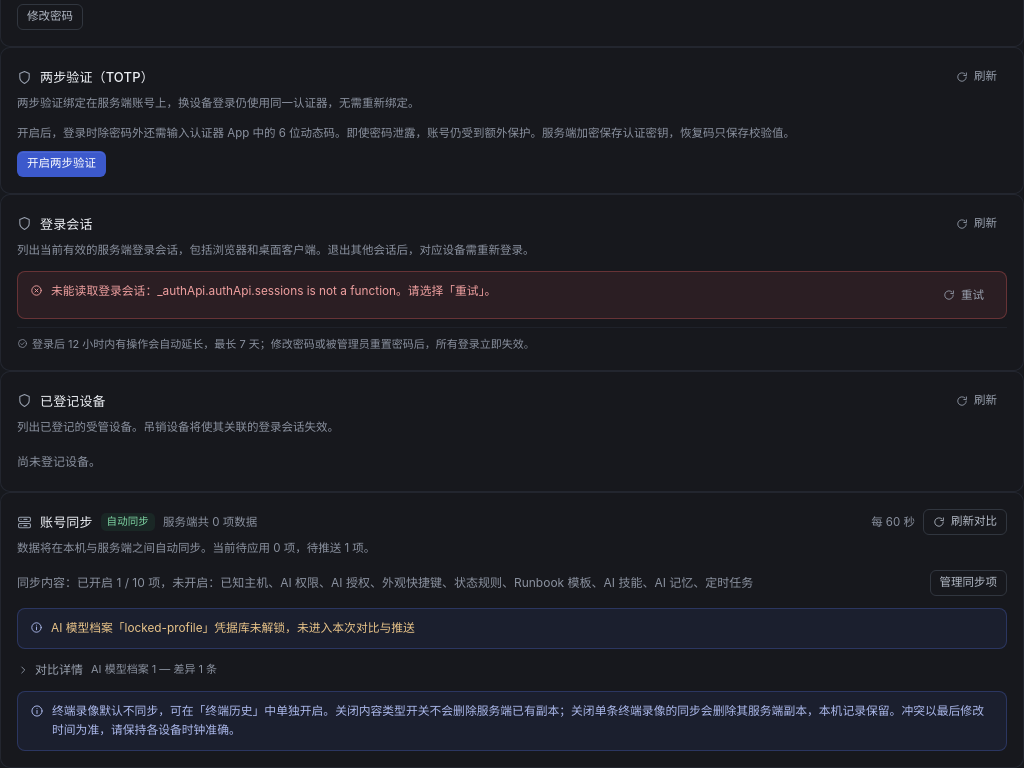
Scenario: M165 AI profile sync › pushes plaintext keys for revealed profiles (Go fixture bytes) and warns about locked profiles without pushing them
The width and height of the screenshot is (1024, 768).
(page scrolled)
Click the button "管理同步项" at (968, 583), box [930, 570, 1007, 596]
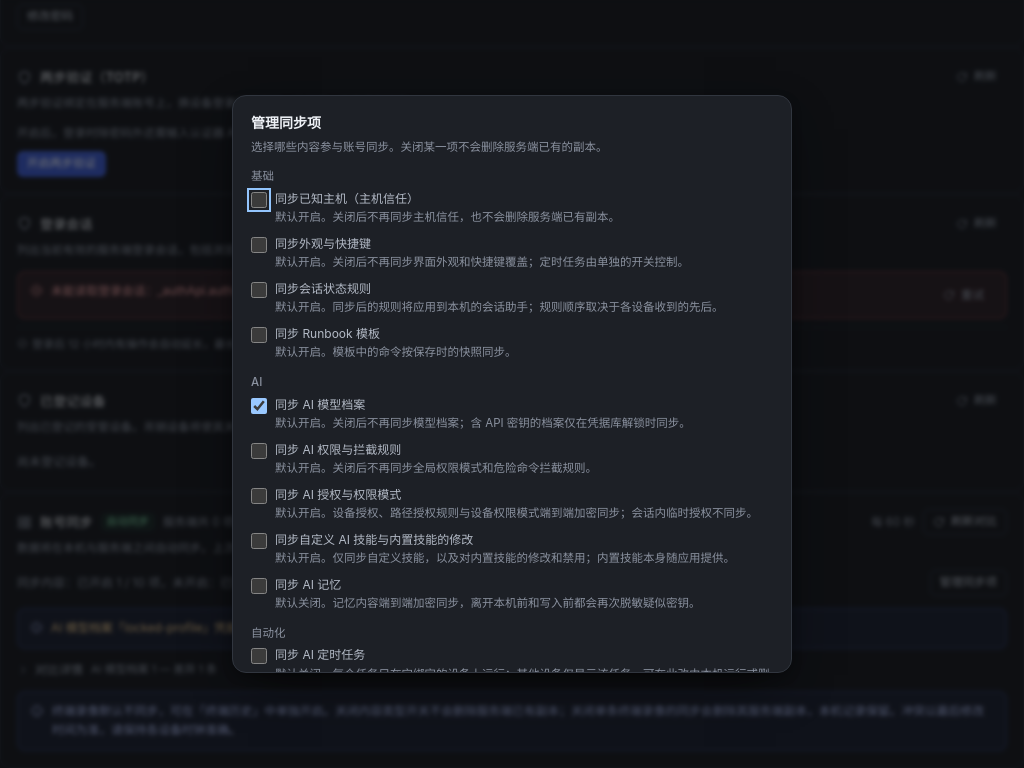
Expected: the text "待推送 1 项" is shown, [377, 541, 540, 555]
Now the checkbox labelled "同步 AI 模型档案 默认开启。关闭后不再同步模型档案；含 API 密钥的档案仅在凭据库解锁时同步。" is checked, box [251, 398, 267, 414]
